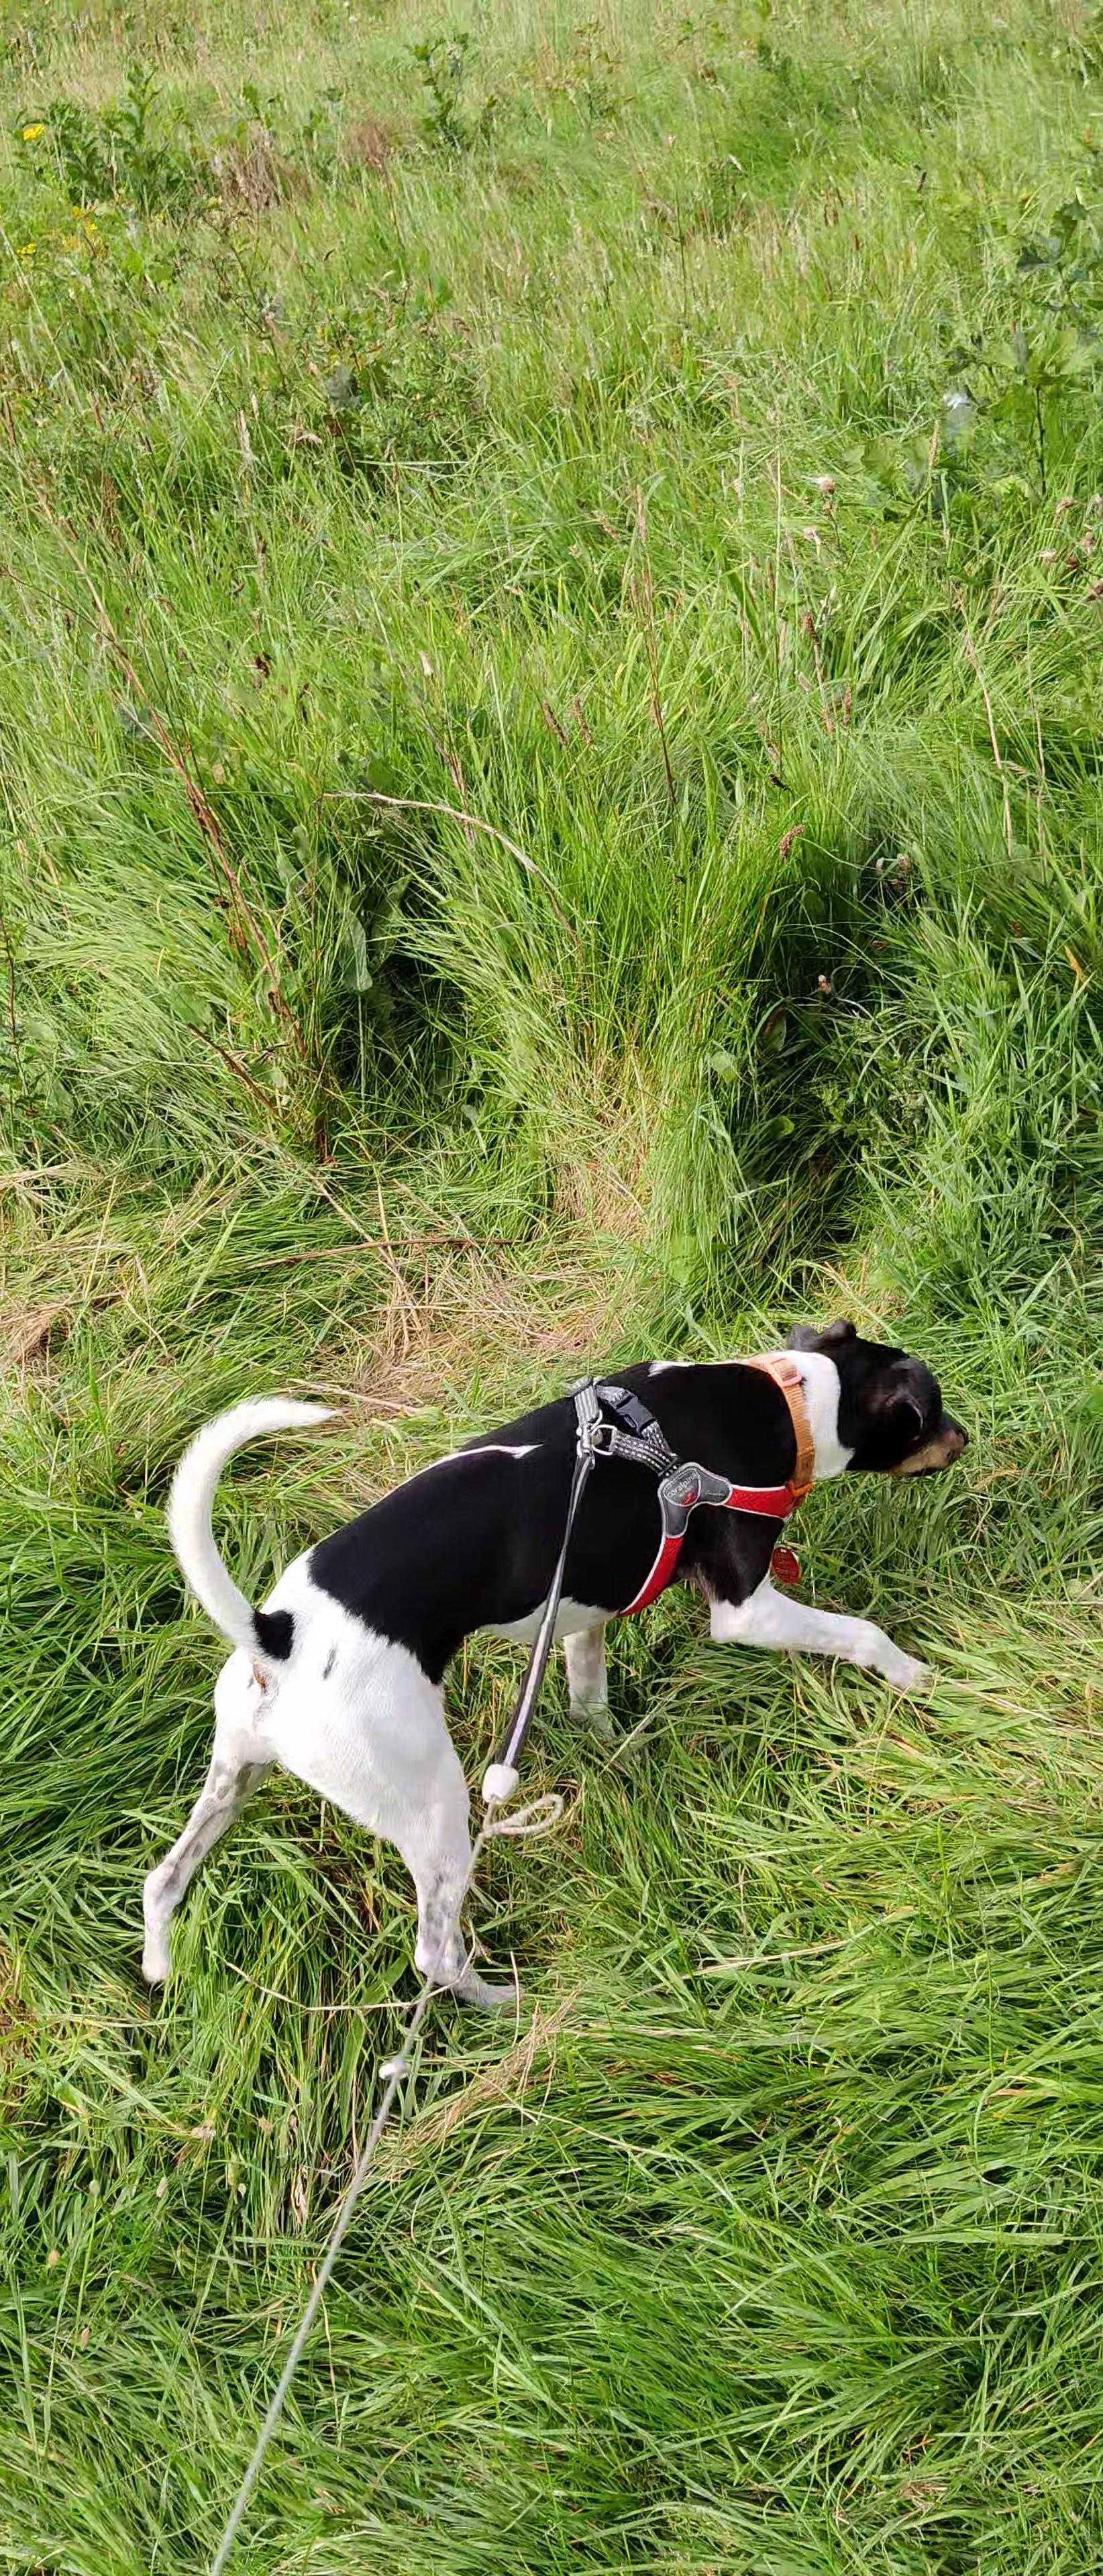Dog: (130, 1314, 983, 2016)
